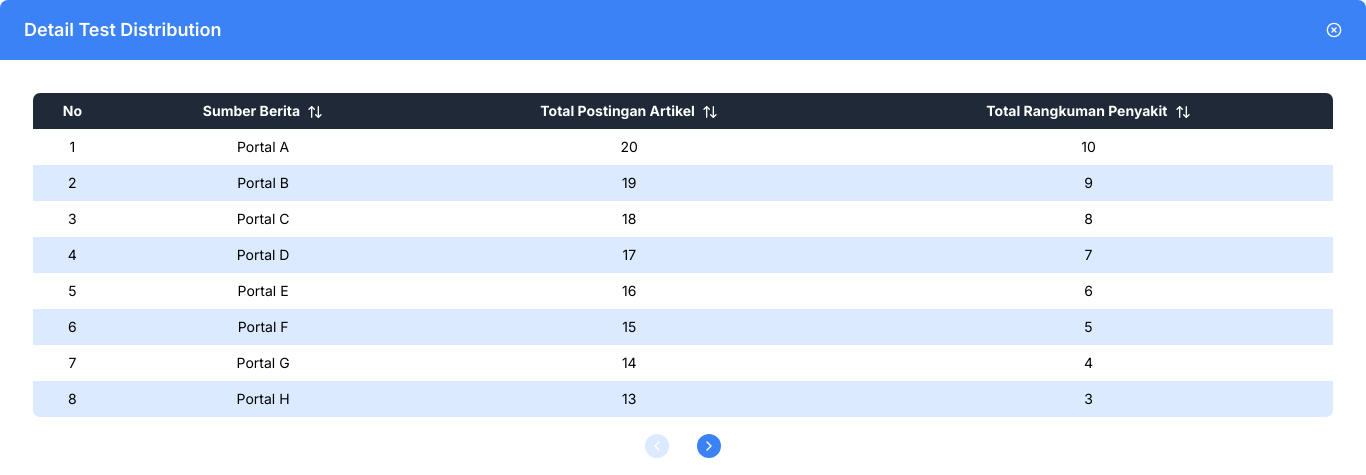
Test: DetailDistribution Component › Edge cases › resets to first page when sorting changes
Click the button with test id "next-page-button" at point(709, 446), box [697,434,721,458]
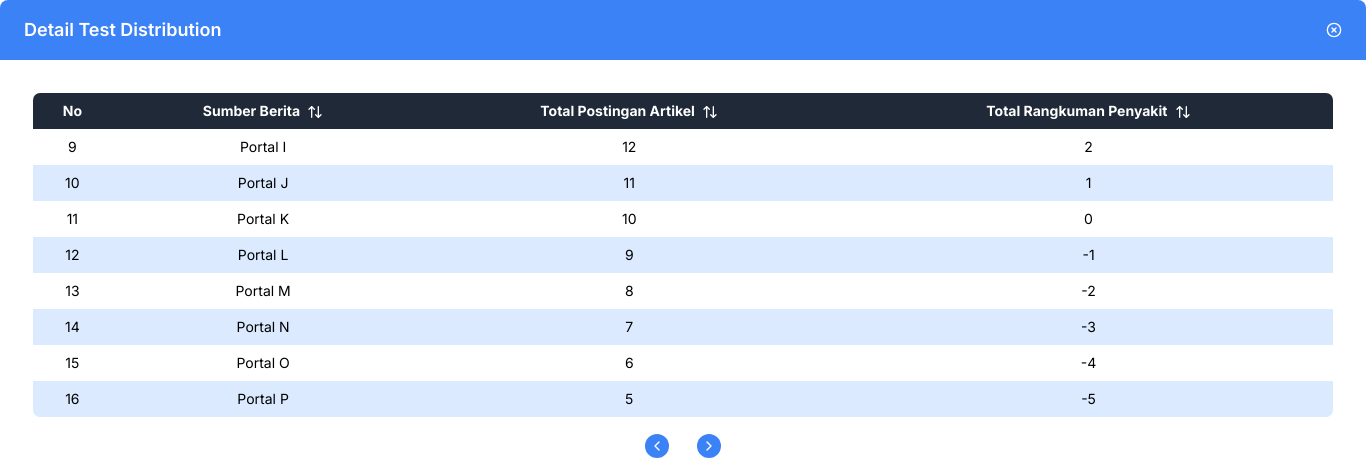
Click the column heading "Sumber Berita" at point(263, 111), box [112,92,414,129]
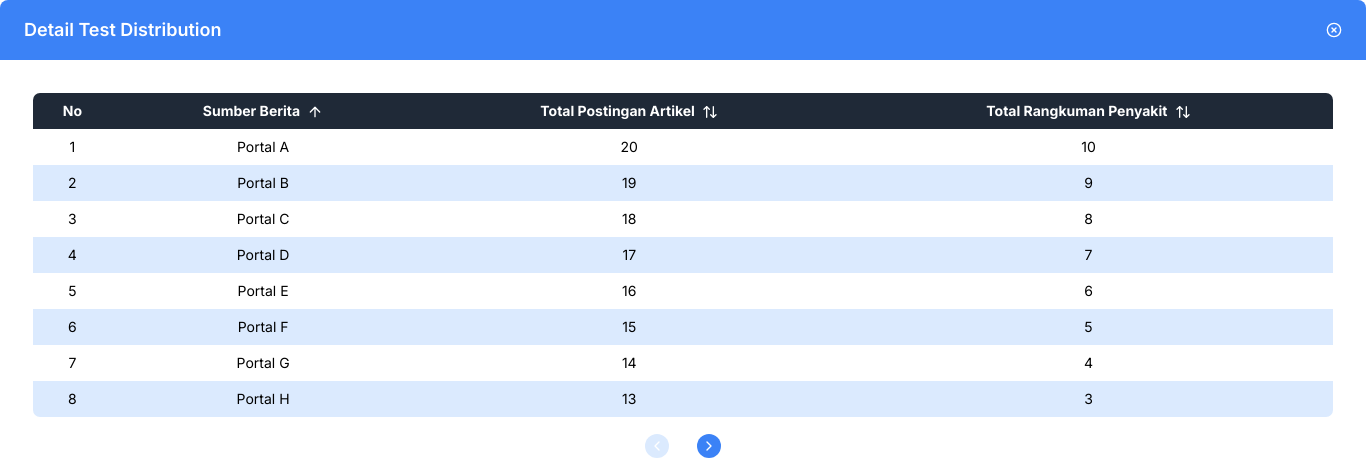
expect the row "1 Portal A 20 10" is shown: met, box [32,129,1334,165]
